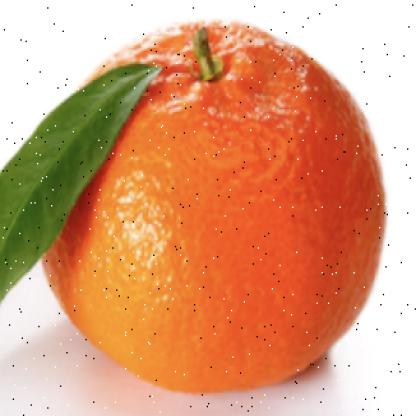orange: (36, 20, 388, 401)
